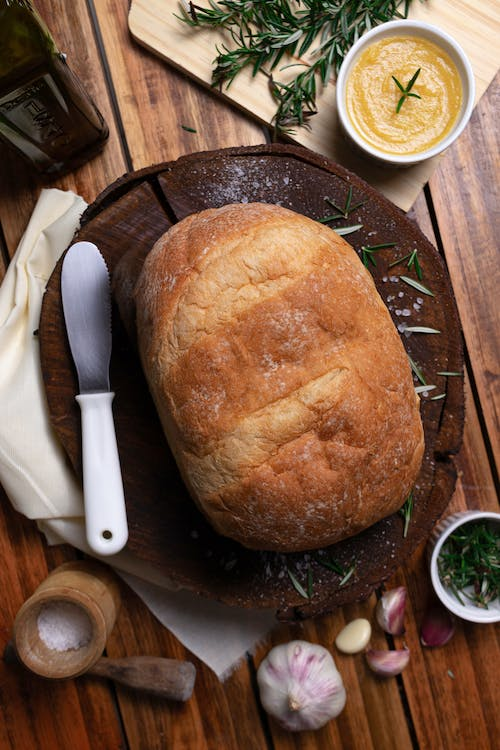knife: (59, 240, 130, 557)
